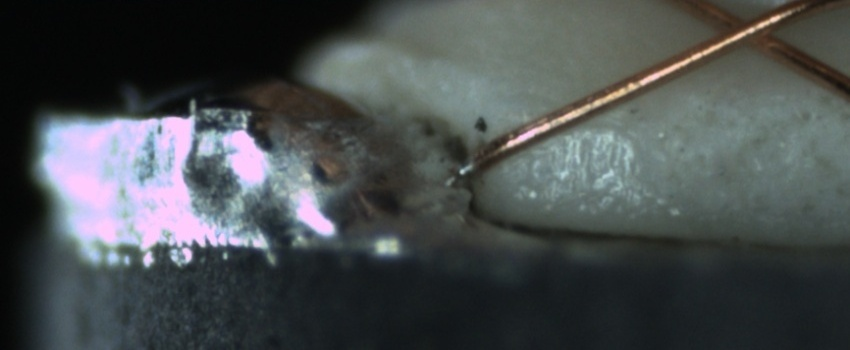CL: (692, 0, 800, 59)
